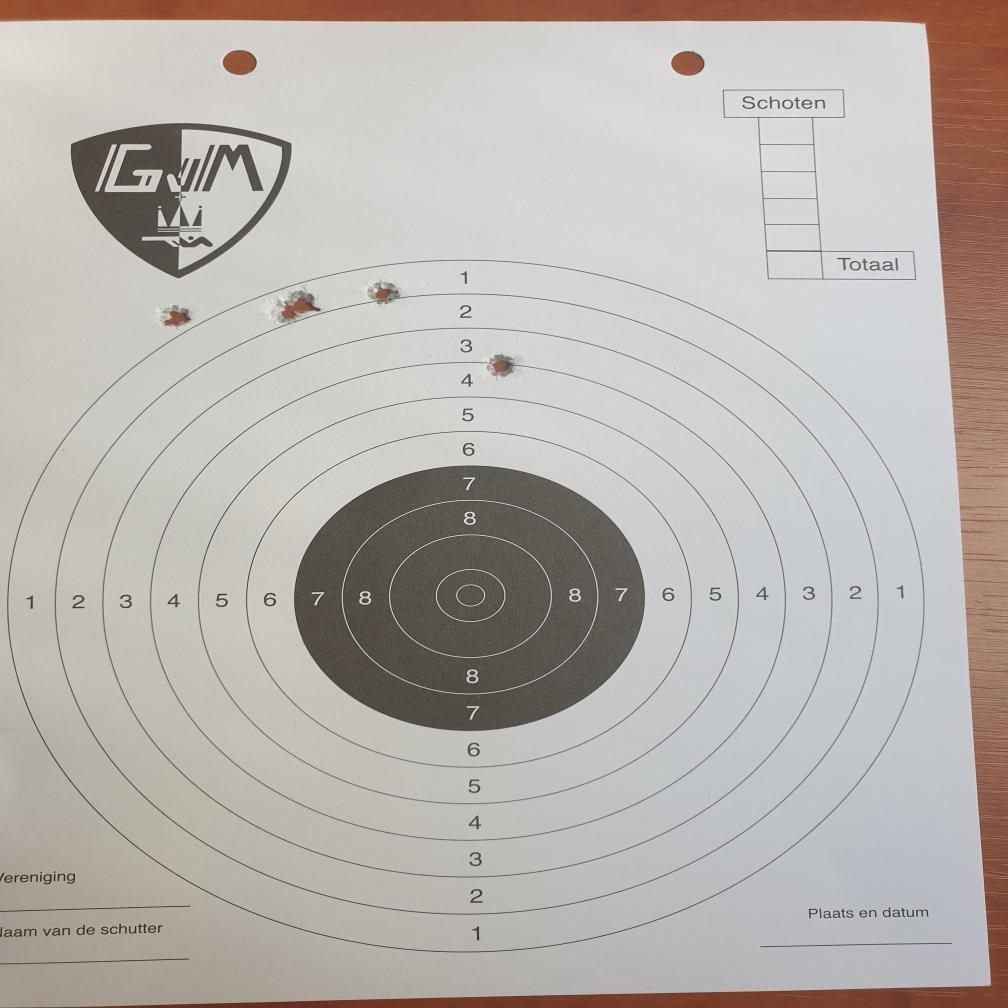0: (149, 302, 200, 330)
1: (286, 286, 321, 314), (270, 299, 302, 324)
2: (363, 279, 401, 306)
4: (485, 351, 521, 377)
Target: (10, 260, 938, 952)
black_contour: (292, 464, 646, 732)
